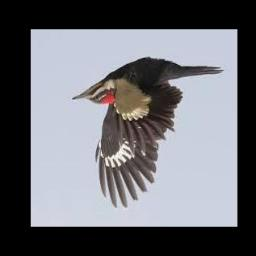Woodpecker: (71, 59, 224, 208)
